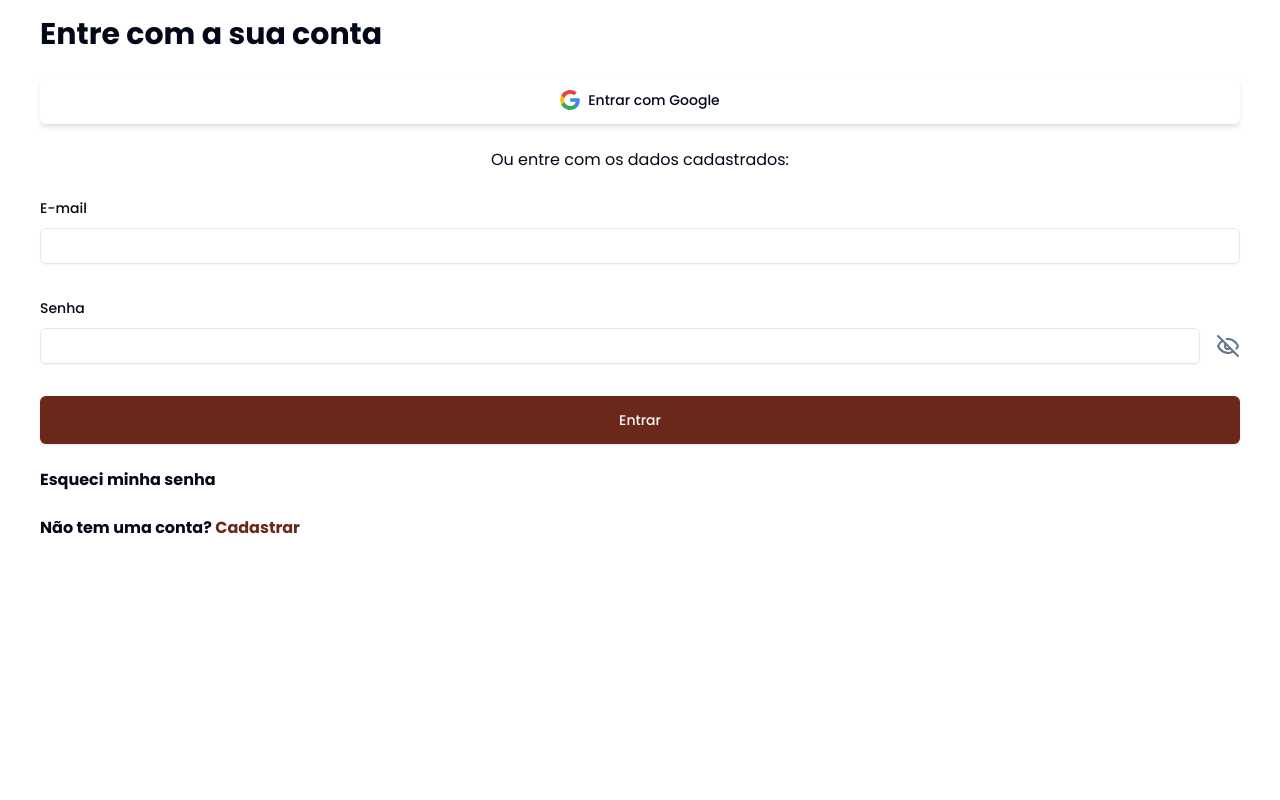
Scenario: SignIn form component › should render validation errors if inputs values are not correct
This screenshot has width=1280, height=800.
Expected: the number of fields with test id "signInInput" is 2, 40,228 -> 1240,264; 40,328 -> 1200,364
Click the button "Entrar". click: x=640, y=420
box: 40,396 -> 1240,444
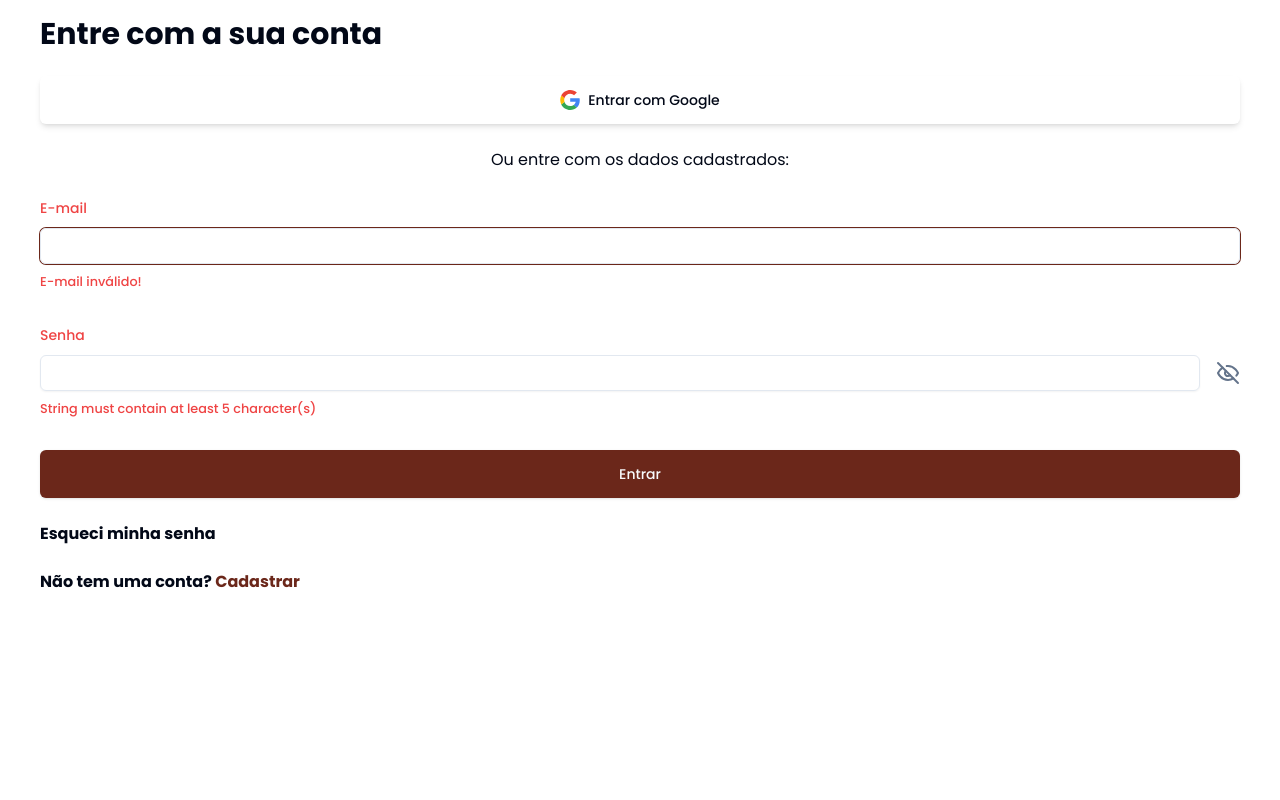
Expected: the number of elements with test id "validationErrorMessage" is 2, 40,273 -> 142,290; 40,400 -> 316,417
